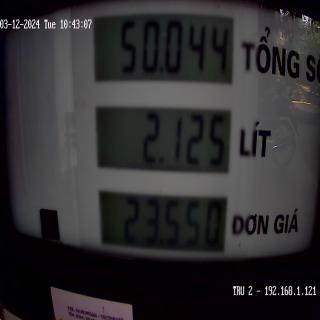screen: (88, 0, 241, 275)
